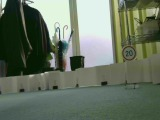speed_20: (120, 45, 137, 61)
